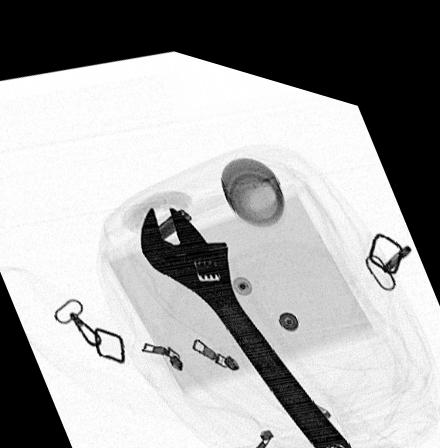Wrench: (136, 193, 355, 445)
